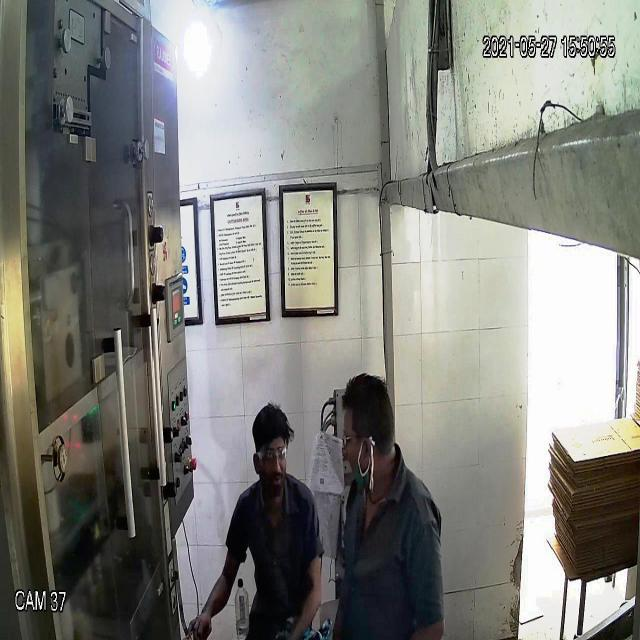glasses: (250, 438, 292, 468)
